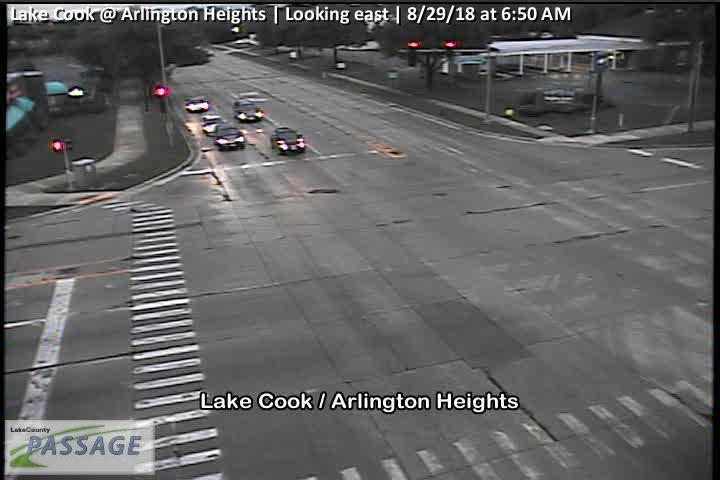SUV: (272, 127, 306, 154), (216, 124, 245, 151), (232, 98, 263, 122)
Sedan: (201, 114, 223, 135), (184, 96, 209, 112)
